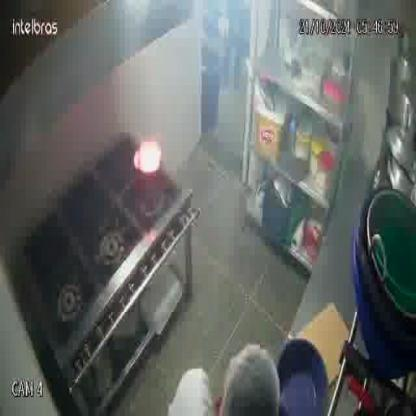fire: (134, 140, 167, 174)
